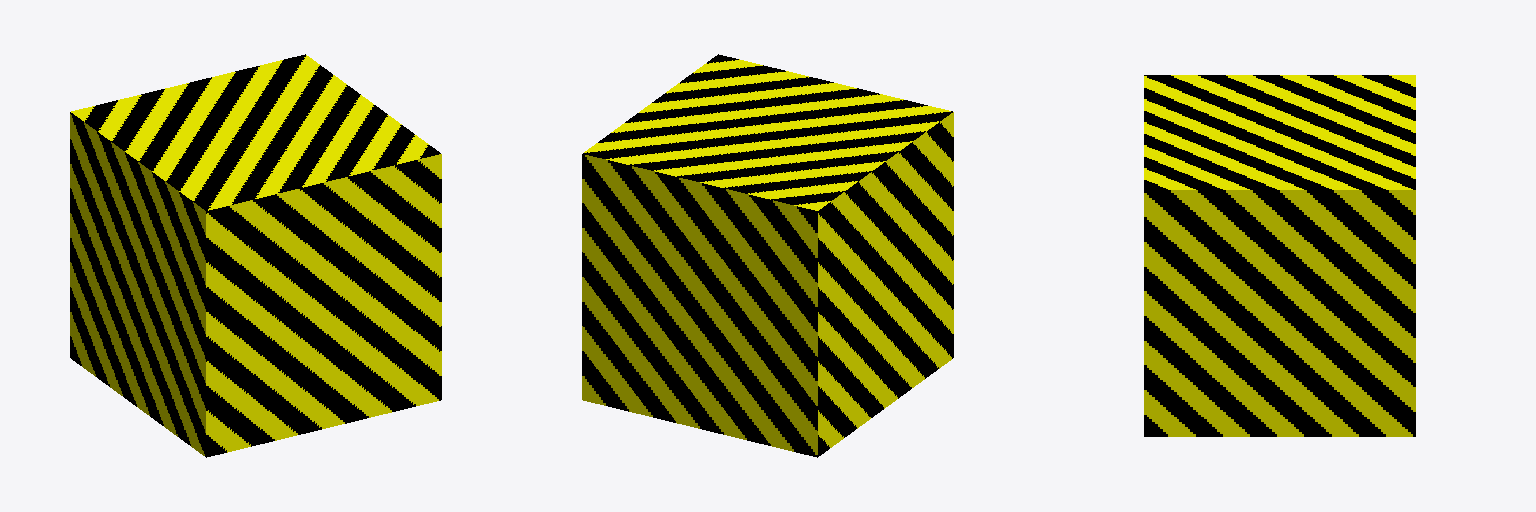
3 renders of one model, left to right at view 1: azimuth 30°, elevation 25°; view 2: azimuth 150°, elevation 25°; view 3: azimuth 270°, elevation 25°, orthographic.
Visible parts, largest first — view 1: Cube; view 2: Cube; view 3: Cube.
Part boxes in pixels (left/top/right/bottom): Cube: left=70, top=54, right=441, bottom=457; Cube: left=582, top=54, right=953, bottom=457; Cube: left=1144, top=75, right=1415, bottom=436.
Size of the model in its own units: 1 by 1 by 1.
1 materials, 1 textured.